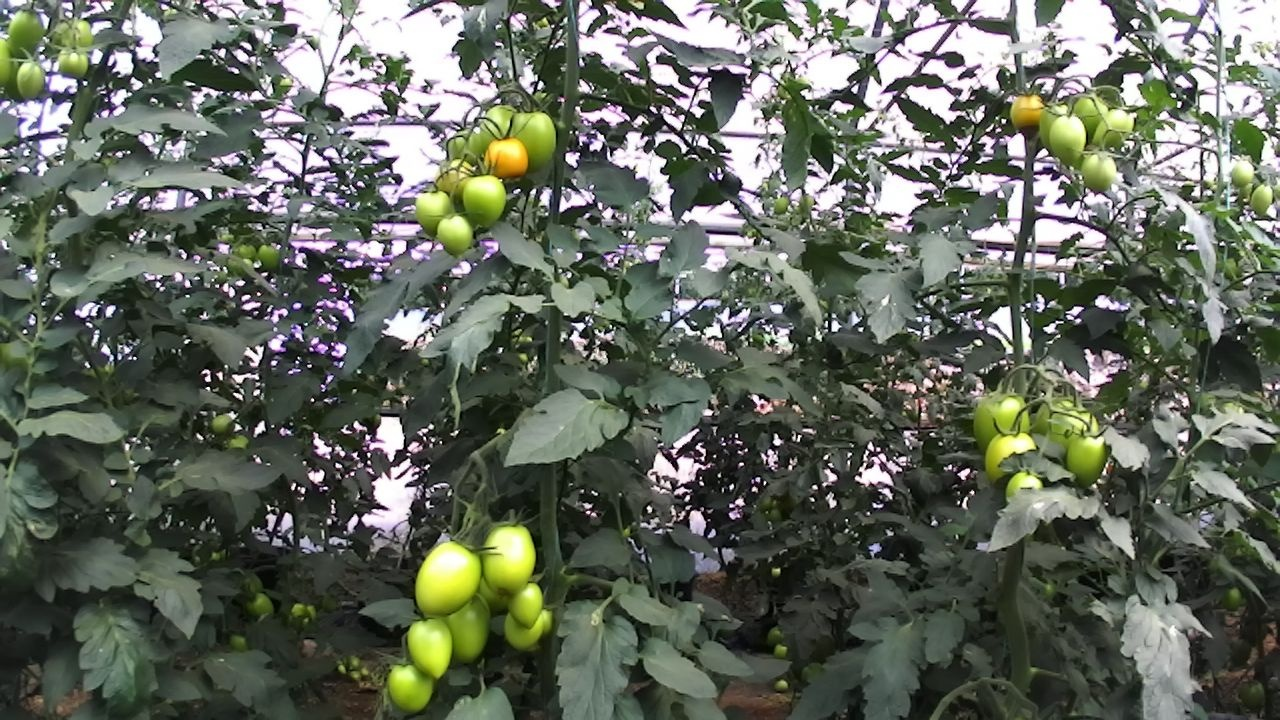tomato: (403, 527, 492, 624), (476, 508, 546, 604), (1032, 385, 1107, 469), (965, 385, 1040, 466), (433, 585, 503, 671), (976, 417, 1043, 491), (400, 610, 466, 683), (501, 103, 565, 178), (468, 93, 534, 164), (1056, 425, 1118, 496), (475, 125, 538, 190), (377, 657, 441, 720), (458, 168, 515, 237), (407, 183, 463, 248), (1036, 95, 1083, 163), (1001, 87, 1058, 142), (498, 604, 553, 661), (1043, 109, 1094, 170), (1068, 88, 1117, 151), (429, 149, 482, 207), (1, 2, 50, 64), (501, 574, 550, 636), (441, 119, 494, 175), (1087, 101, 1140, 154), (996, 466, 1054, 513), (431, 206, 480, 260), (1076, 145, 1122, 198), (10, 54, 51, 106), (53, 42, 96, 83), (1245, 179, 1280, 221), (1225, 155, 1258, 191), (254, 238, 285, 275), (206, 412, 238, 437)
